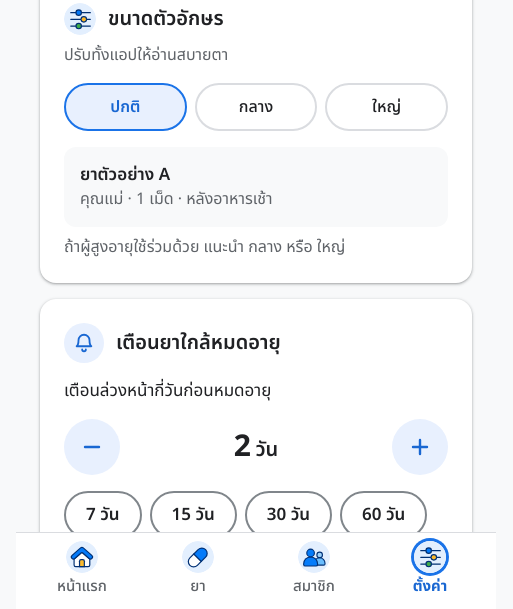
Test: thresholds apply at once, with no save button › − and + move by one day and stop at the ends (1 and 365 / 1 and 60)
The image size is (513, 609).
What coordinates should you click on to do the following:
click the button named "ลด 1 วัน · เตือนยาใกล้หมดอายุ"
I would click on:
 (92, 447)
Its box is top-left (64, 419), bottom-right (120, 475).
(page scrolled)
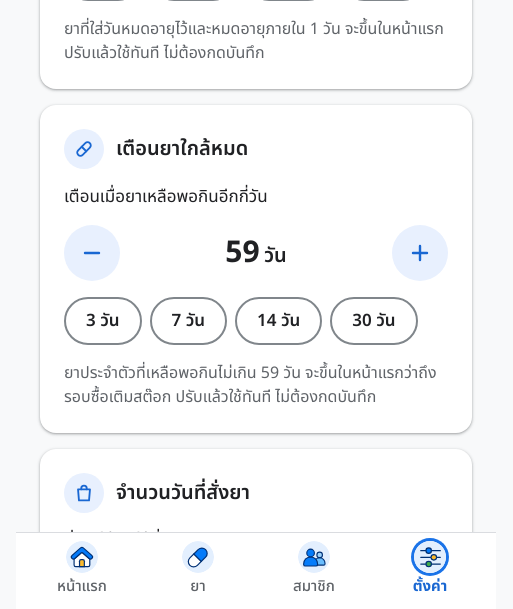
What coordinates should you click on to do the following:
click the button named "เพิ่ม 1 วัน · เตือนยาใกล้หมด"
I would click on:
 (420, 253)
Its box is top-left (392, 225), bottom-right (448, 281).
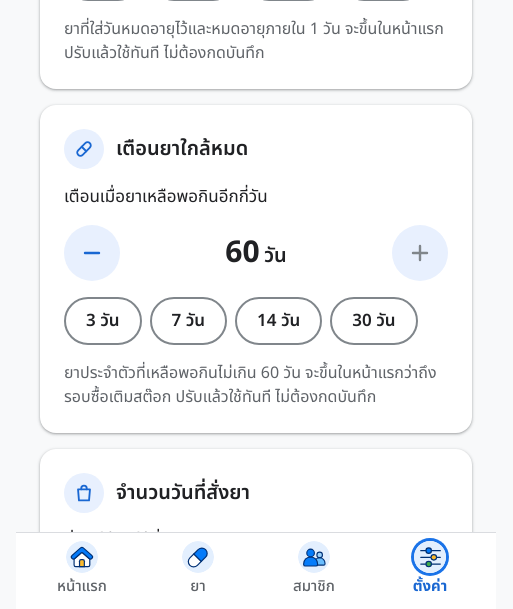
Check: the button named "เพิ่ม 1 วัน · เตือนยาใกล้หมด" is disabled, box top-left (392, 225), bottom-right (448, 281)
